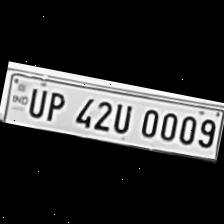0: (134, 102, 162, 138), (174, 110, 199, 145), (156, 107, 181, 141)
2: (89, 94, 114, 132)
4: (67, 90, 97, 128)
9: (194, 112, 218, 148)
P: (39, 86, 68, 124)
U: (108, 98, 136, 134), (22, 82, 48, 118)
